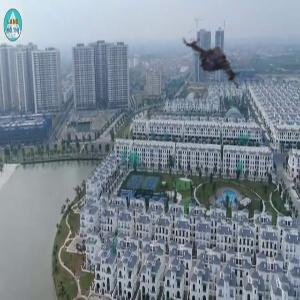drone: (177, 19, 260, 102)
